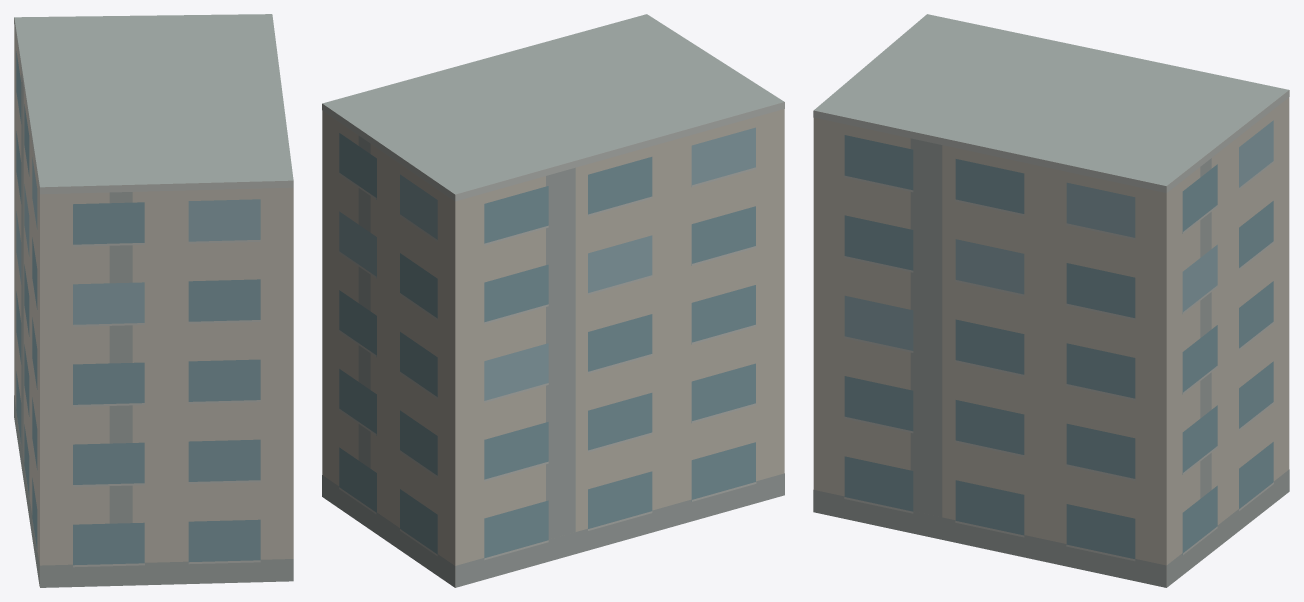
The model's file is survey-upis-32733923.glb.
3 views of the same model, side by side, from view 1: azimuth 30°, elevation 25°; view 2: azimuth 150°, elevation 25°; view 3: azimuth 270°, elevation 25° (orthographic). The views are drawn at different scales.
Visible parts, largest first — view 1: survey-upis-32733923.tmp; view 2: survey-upis-32733923.tmp; view 3: survey-upis-32733923.tmp.
Part boxes in pixels (x1,y1,x2,y2): survey-upis-32733923.tmp: [14, 14, 293, 587]; survey-upis-32733923.tmp: [322, 14, 784, 587]; survey-upis-32733923.tmp: [813, 14, 1289, 587].
Size of the model in its own units: 12.79 by 13.9 by 14.93.
